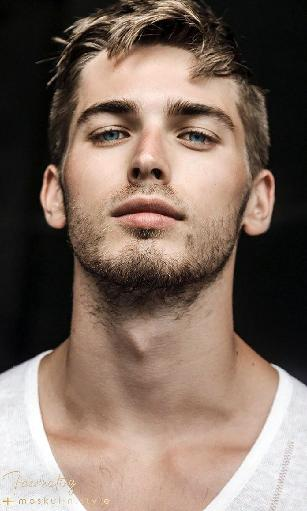left_eye: (176, 130, 224, 153)
left_lip_corner: (173, 209, 191, 228)
right_eye: (88, 128, 133, 149)
right_lip_corner: (107, 206, 123, 225)
